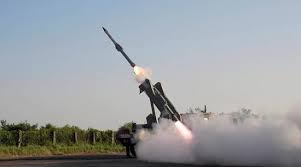ten_lua: (100, 26, 138, 68)
